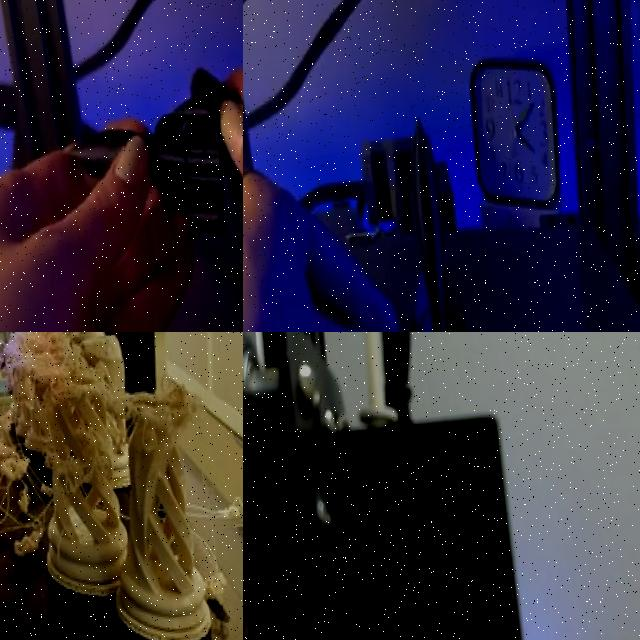spaghetti: (0, 332, 122, 411), (190, 485, 243, 619), (116, 374, 204, 446), (31, 429, 117, 496), (0, 389, 28, 551)
